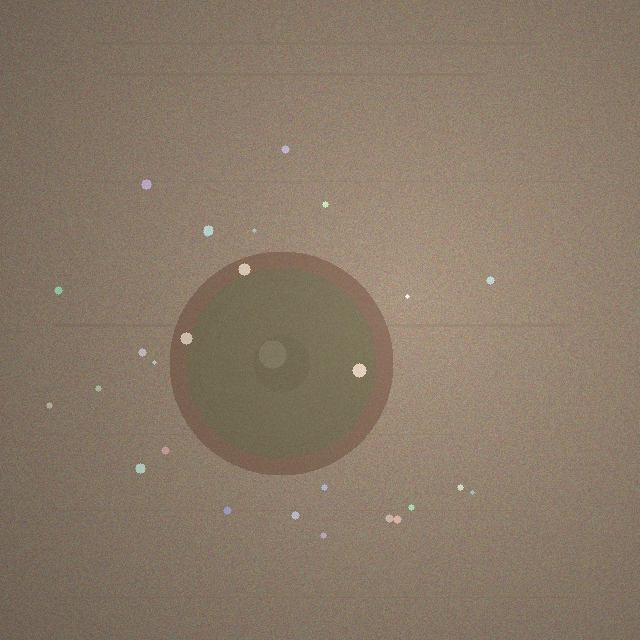overburn: (169, 251, 393, 475)
